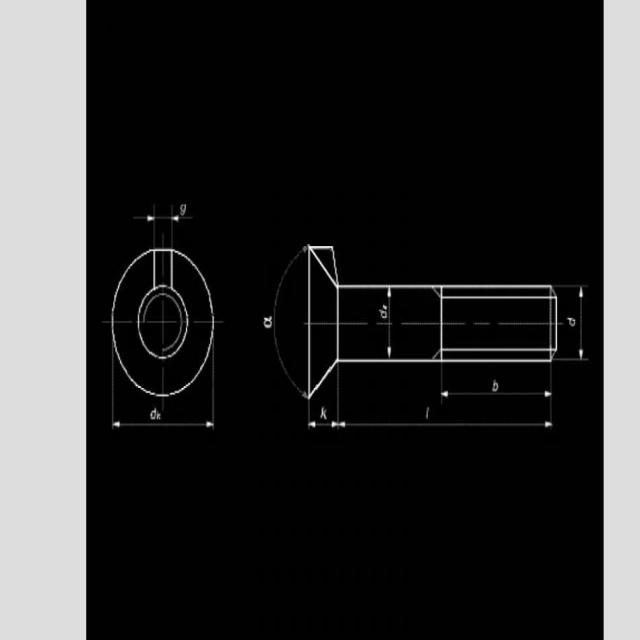marking_line: (338, 363, 554, 429), (273, 239, 307, 398), (438, 363, 554, 404), (109, 403, 216, 432), (134, 201, 197, 248), (559, 280, 590, 364), (134, 204, 158, 247), (170, 203, 192, 247), (308, 401, 341, 430), (331, 363, 341, 428), (386, 289, 393, 357)
